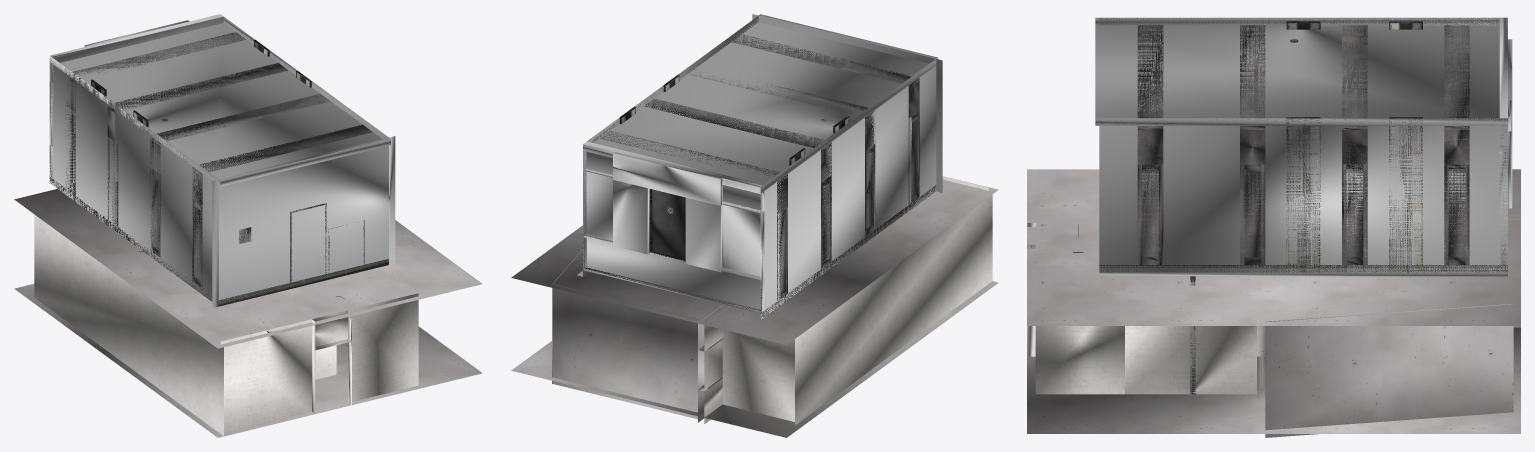
Rendered from 008_opt.obj.
The picture shows the model from 3 angles, left to right: view 1: azimuth 30°, elevation 25°; view 2: azimuth 150°, elevation 25°; view 3: azimuth 270°, elevation 25°; orthographic projection. The views are drawn at different scales.
Bounding box in the file's own units: 69.6 × 59.2 × 92.8.
